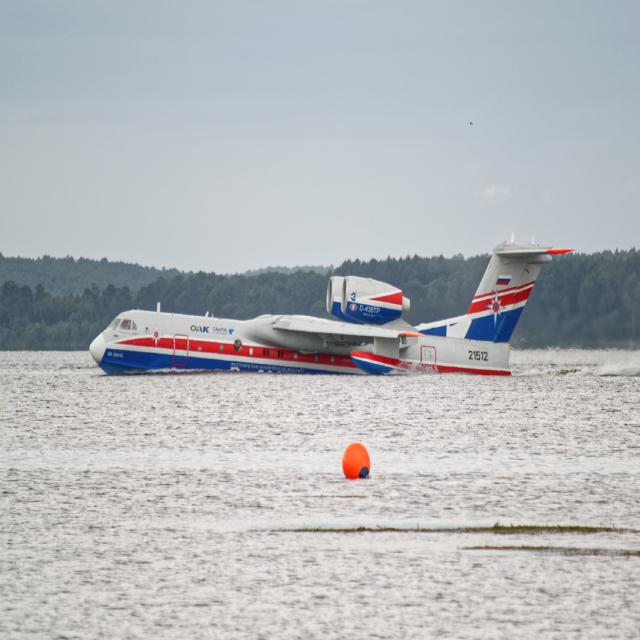MIL_Plane: (0, 230, 321, 373)
